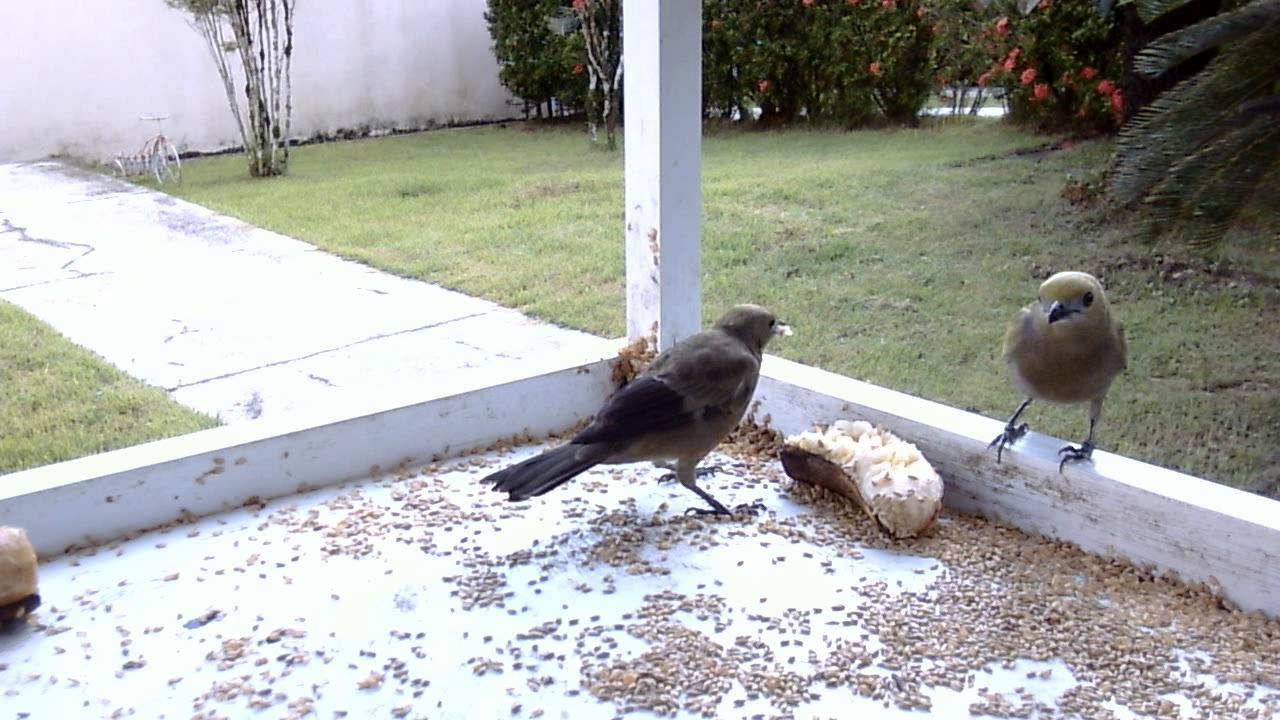sanhaco_do_coqueiro: (479, 300, 788, 527), (985, 266, 1127, 475)
